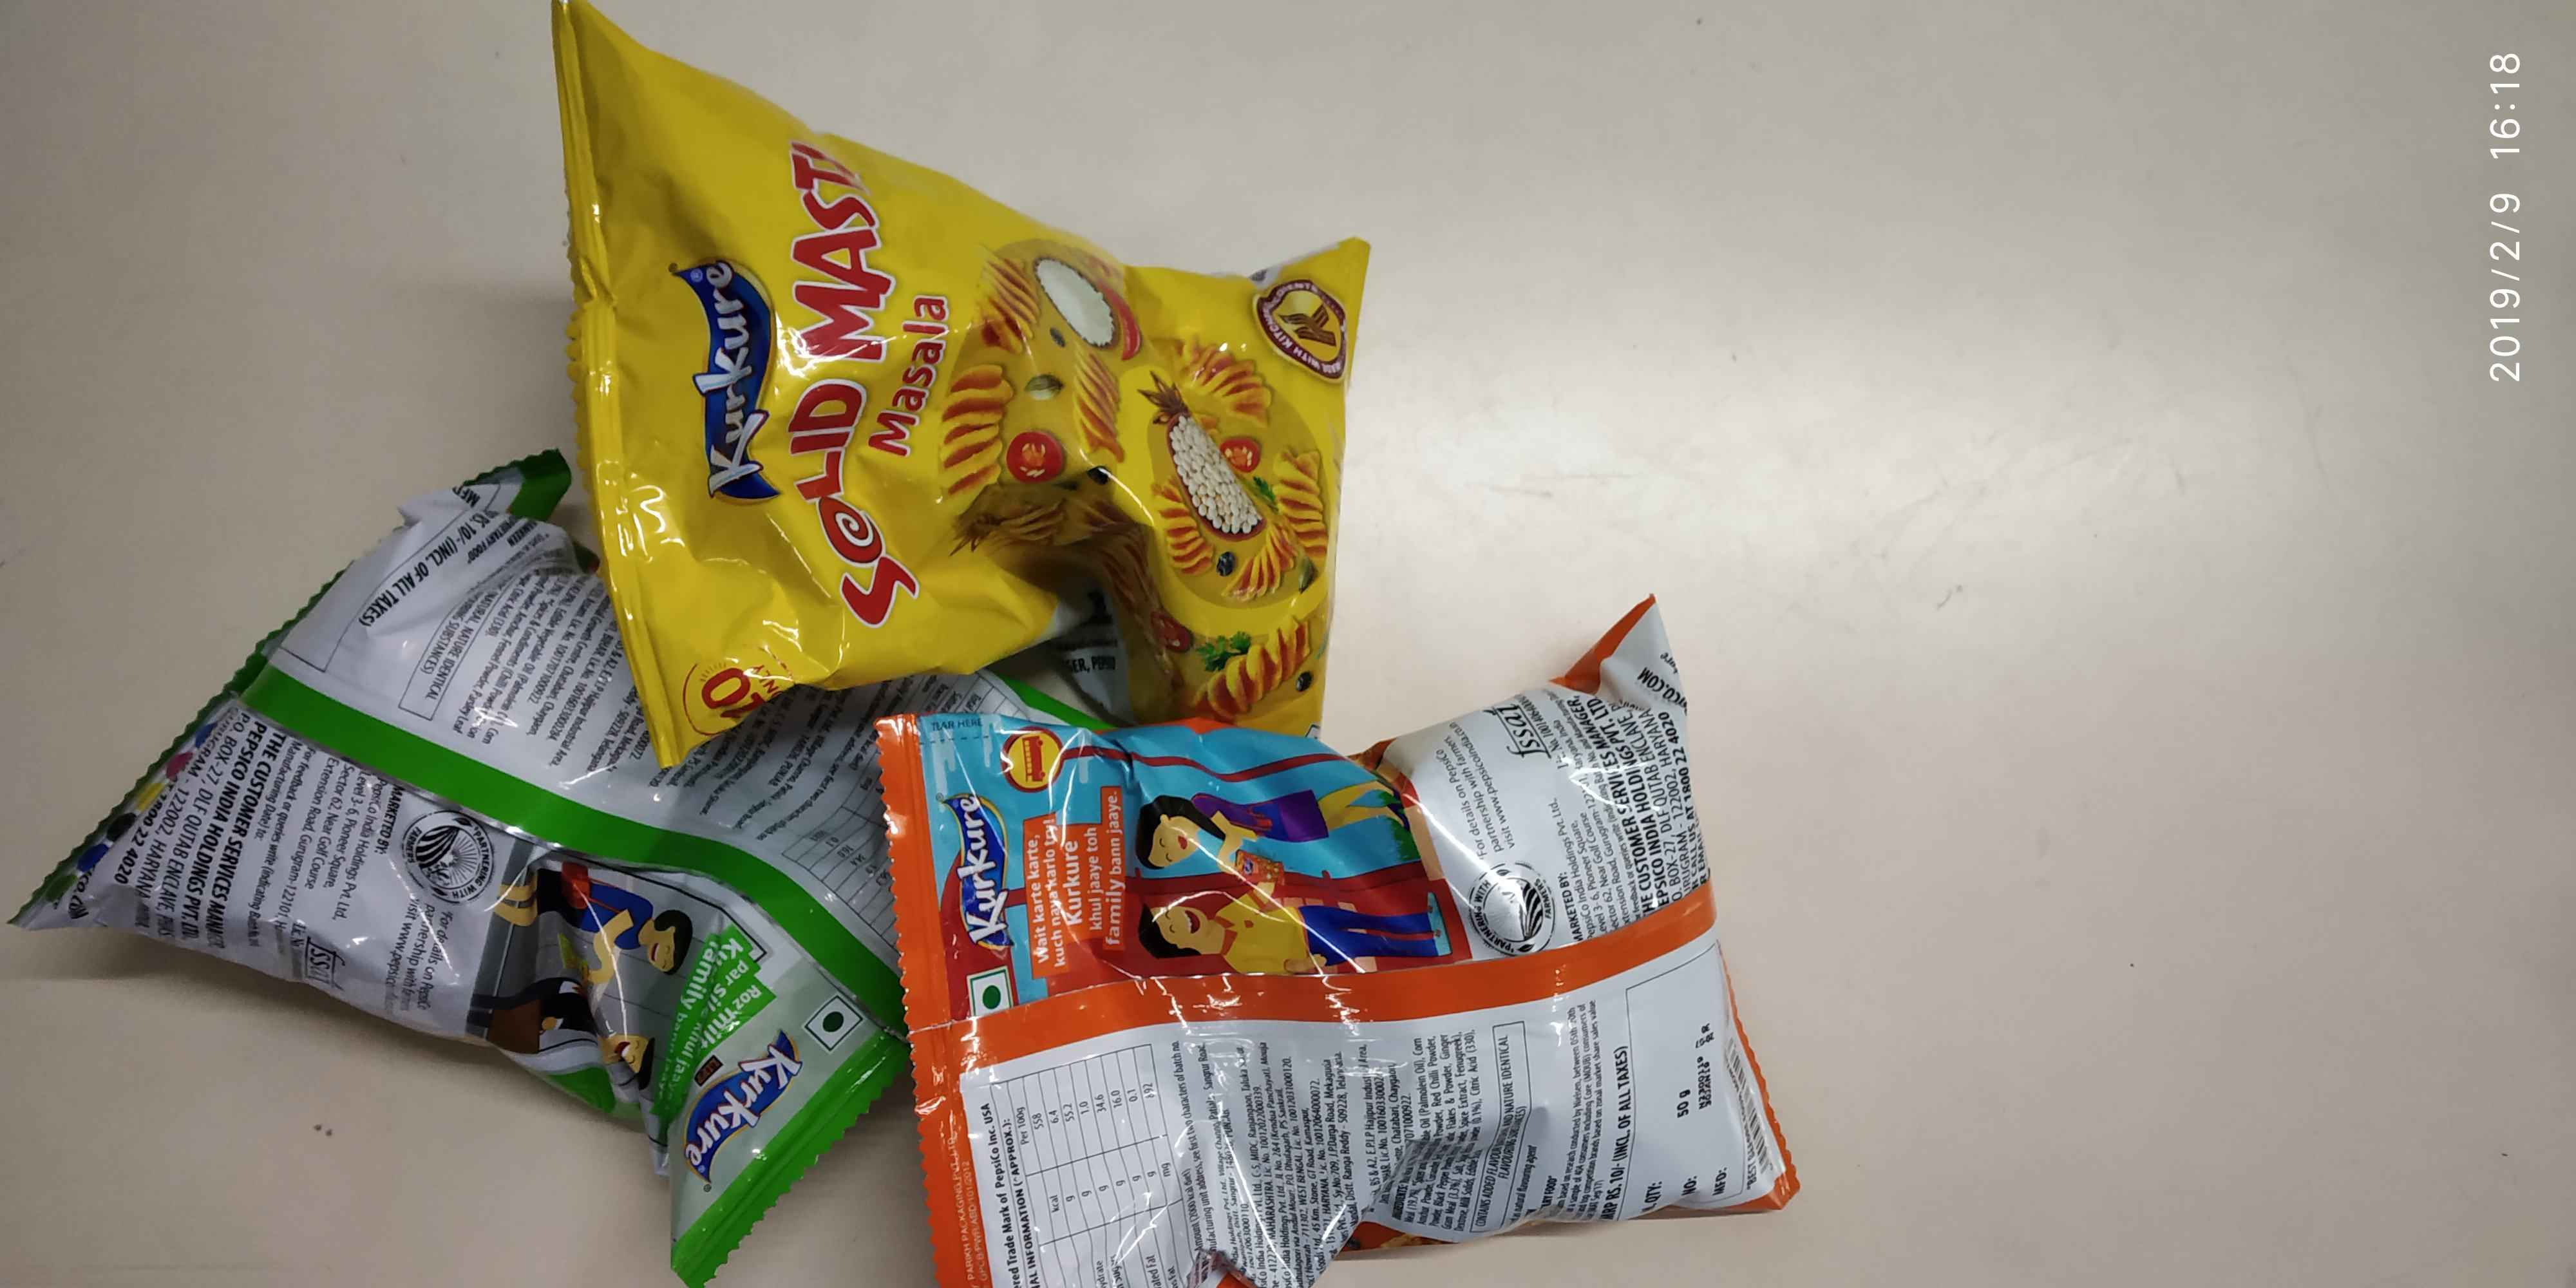kurkure: (670, 235, 797, 511), (670, 1032, 831, 1175), (945, 770, 1022, 956)
